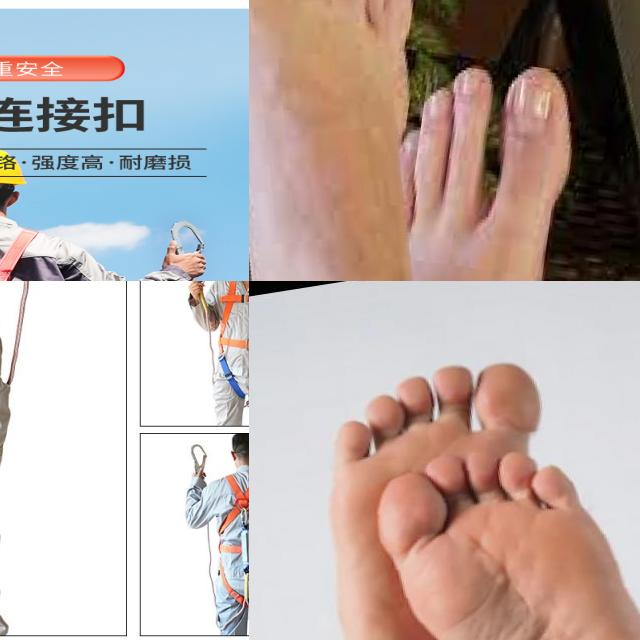Barefoots: (326, 347, 557, 640), (249, 0, 463, 281), (371, 449, 640, 640)
Harness: (210, 470, 249, 607), (213, 281, 249, 406)
